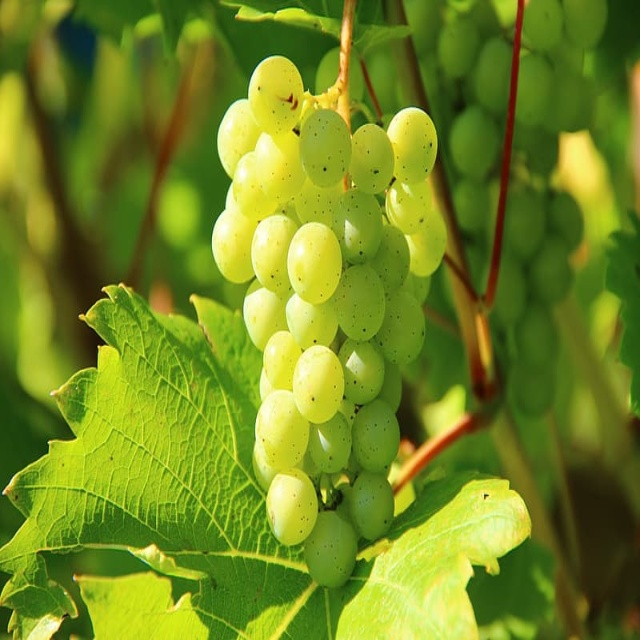grape: (206, 44, 446, 593)
